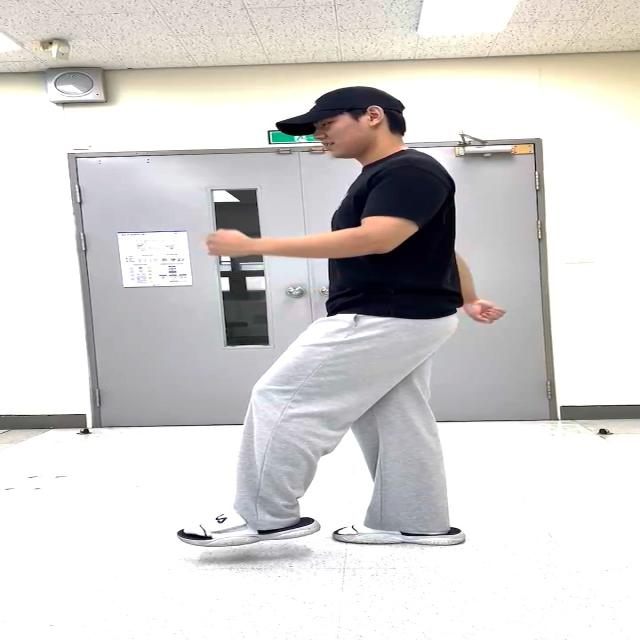leg: (147, 310, 364, 550)
